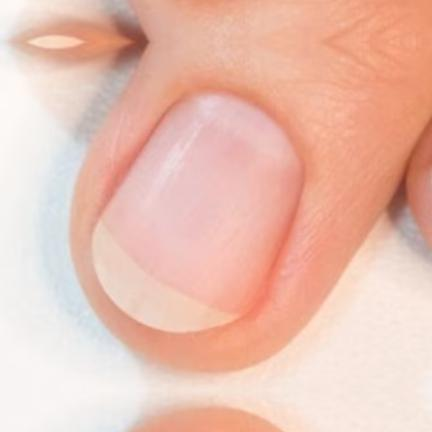Nail: (91, 91, 302, 332)
